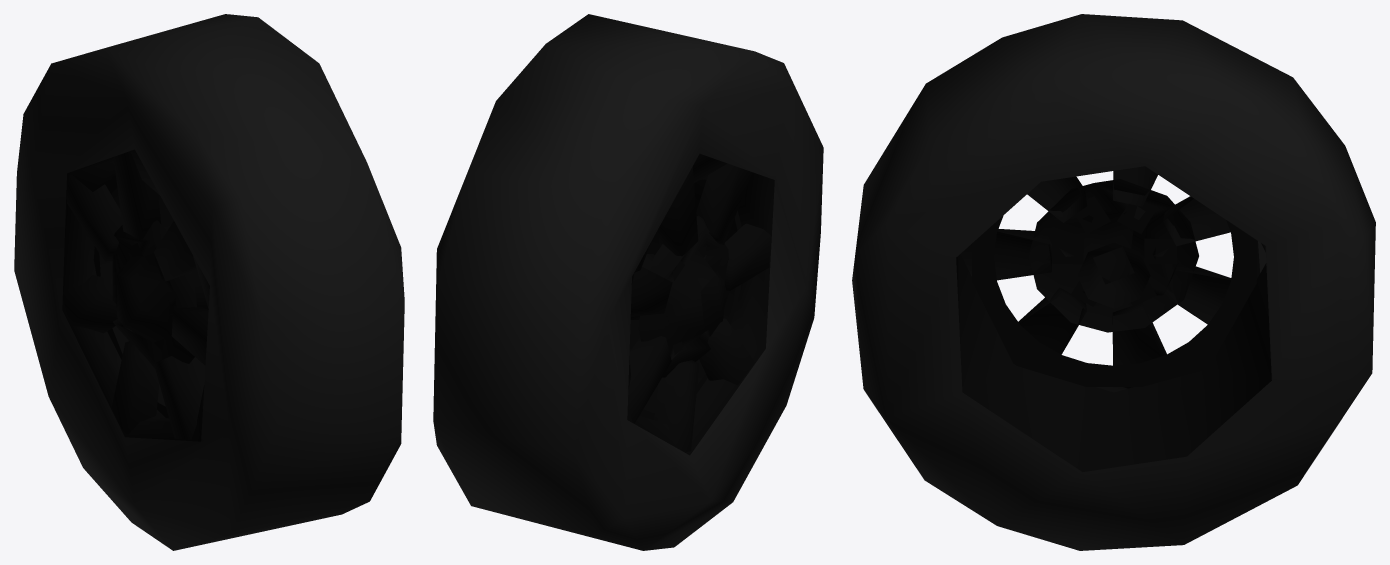
Rendered from ford_f150_wheel.obj.
The picture shows the model from 3 angles, left to right: view 1: azimuth 30°, elevation 25°; view 2: azimuth 150°, elevation 25°; view 3: azimuth 270°, elevation 25°; orthographic projection.
Visible parts, largest first — view 1: ford_f150_wheel_ford_f150_wheel.001; view 2: ford_f150_wheel_ford_f150_wheel.001; view 3: ford_f150_wheel_ford_f150_wheel.001.
Boxes of the visible parts, x1=… form: ford_f150_wheel_ford_f150_wheel.001: x1=14, y1=14, x2=404, y2=550; ford_f150_wheel_ford_f150_wheel.001: x1=433, y1=14, x2=823, y2=550; ford_f150_wheel_ford_f150_wheel.001: x1=852, y1=14, x2=1375, y2=550.
Size of the model in its own units: 0.2932 by 0.7868 by 0.7868.
